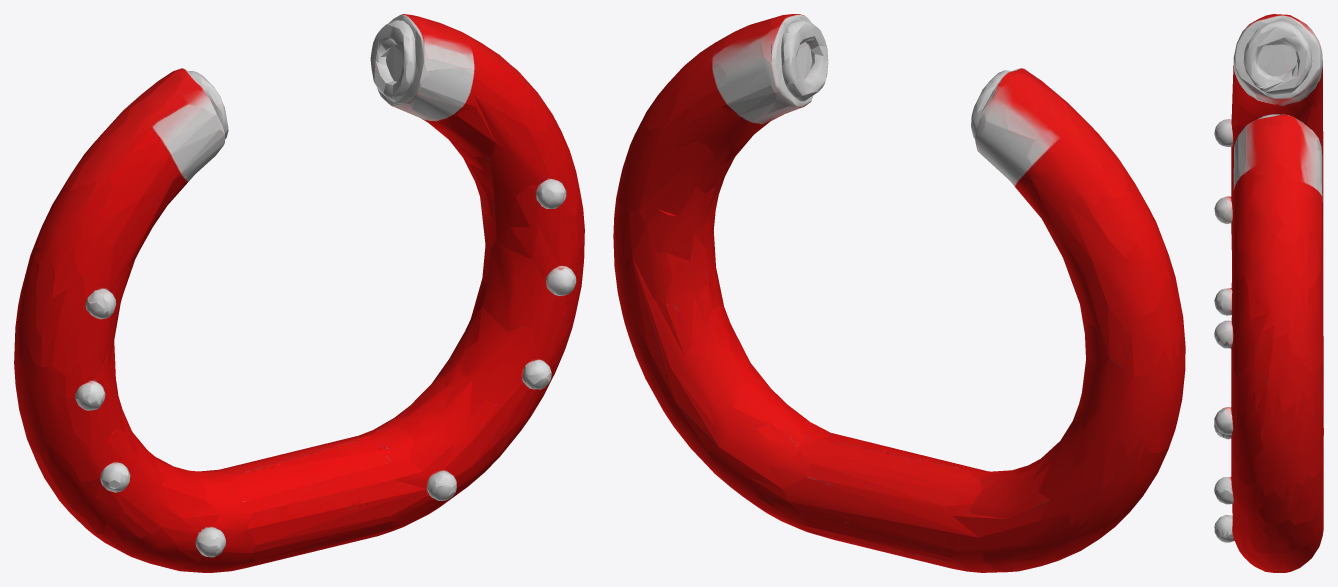
The model's file is magnet_orb.glb.
The picture shows the model from 3 angles, left to right: view 1: azimuth 30°, elevation 25°; view 2: azimuth 150°, elevation 25°; view 3: azimuth 270°, elevation 25°; orthographic projection. The views are drawn at different scales.
Bounding box in the file's own units: 1.9 × 1.65 × 0.3534.
1 material, 1 textured.
